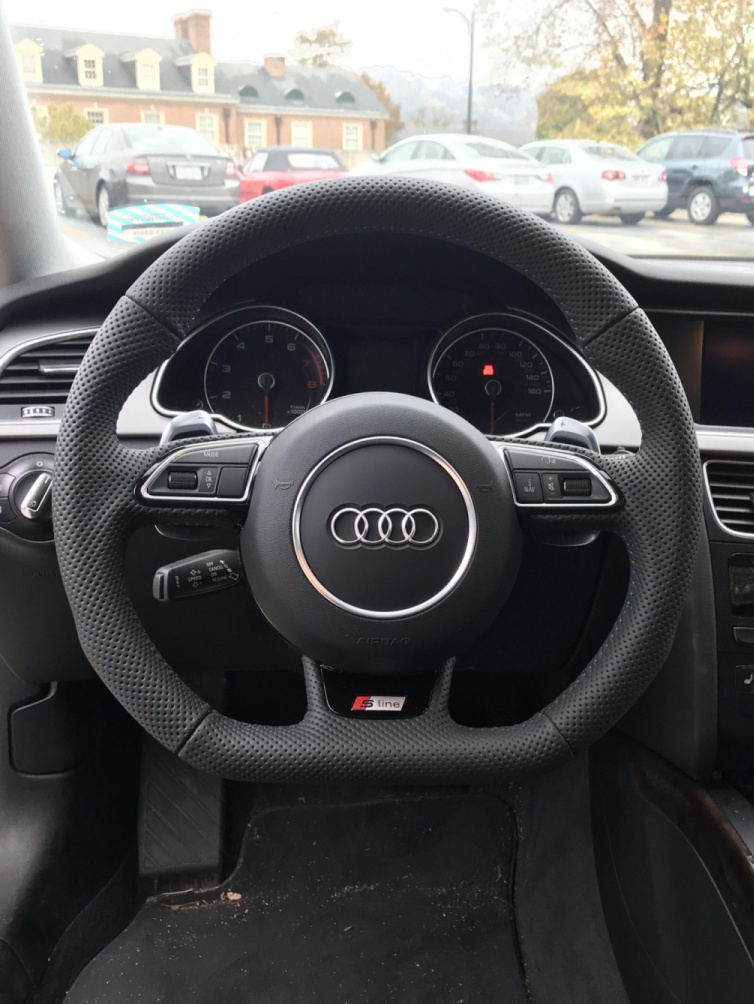audi: (313, 499, 446, 562)
